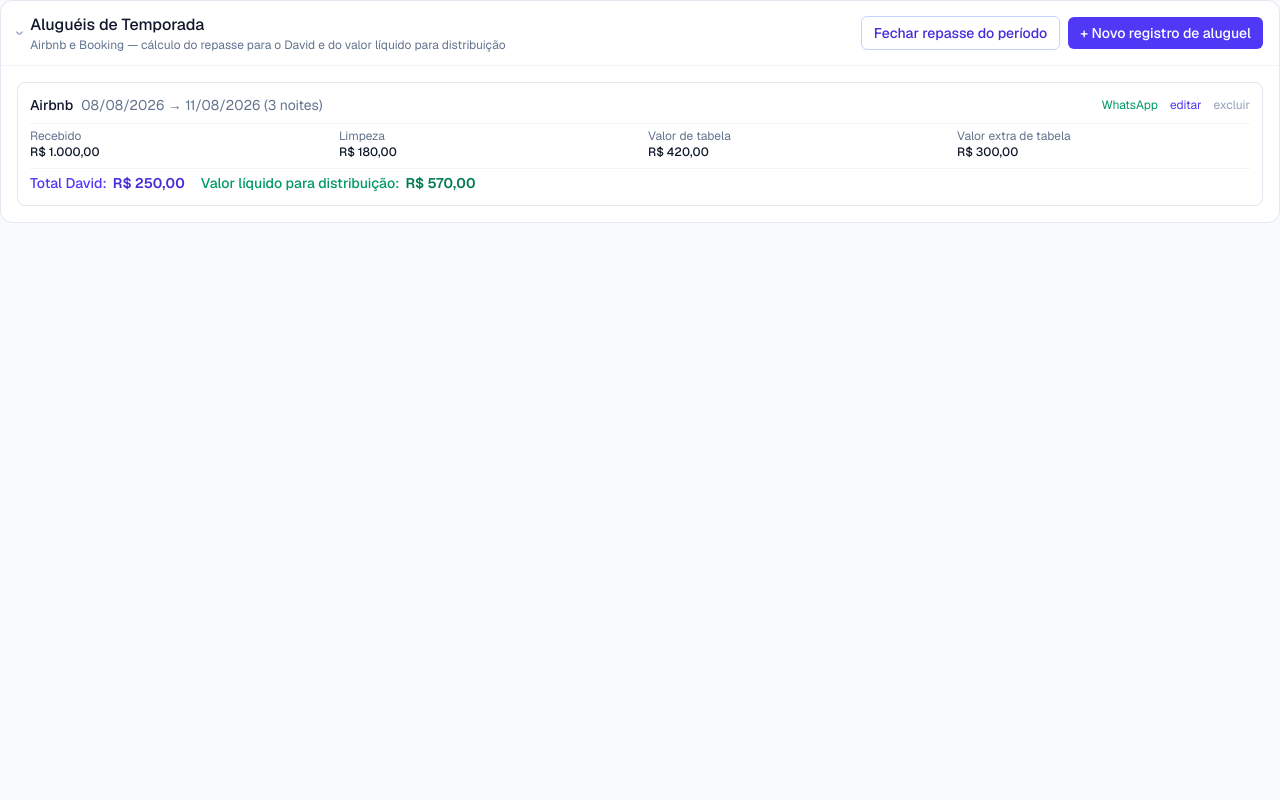
Scenario: SeasonalRentalsSection — exclusão › cancelar não exclui nada
This screenshot has width=1280, height=800.
Expected: the text "Airbnb" is shown, [30,96,73,114]
Click the button "excluir": [1232, 105] box [1214,97,1250,113]
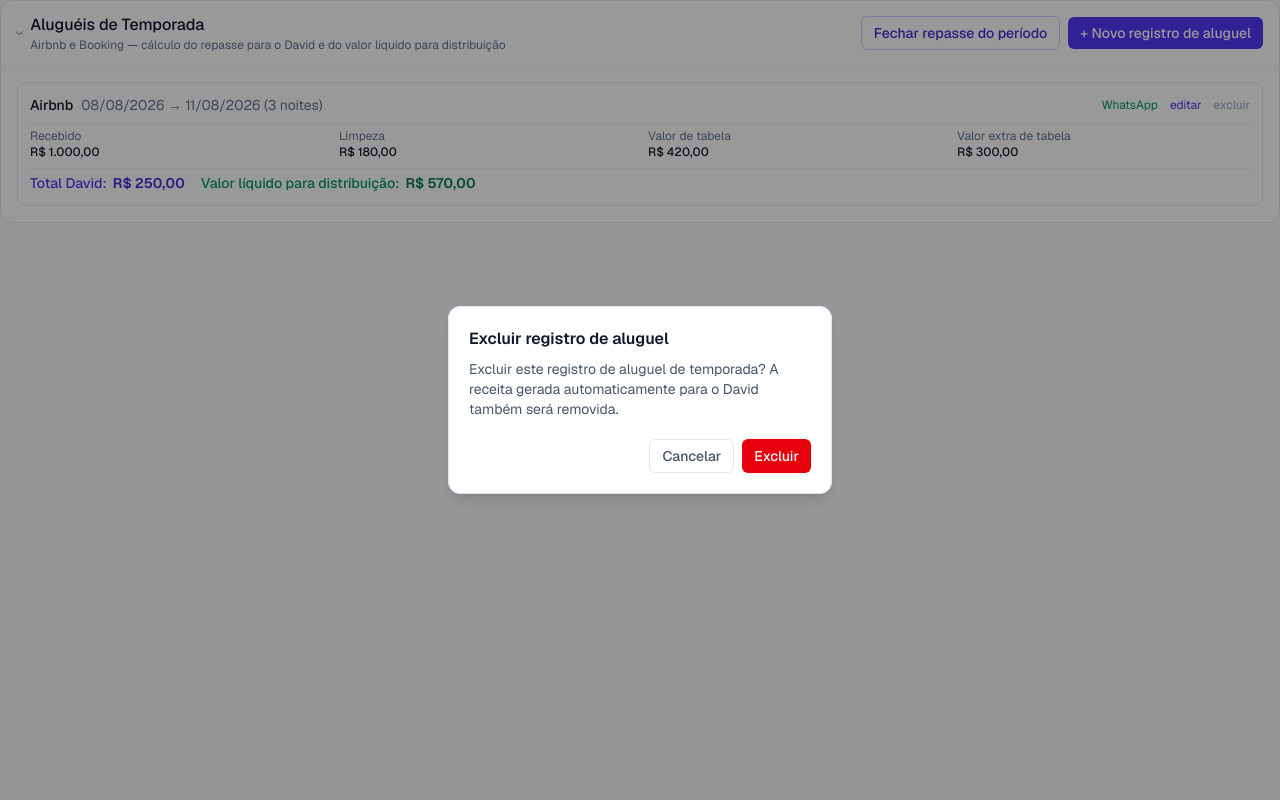
Click the button "Cancelar": [692, 456] box [649,439,734,473]
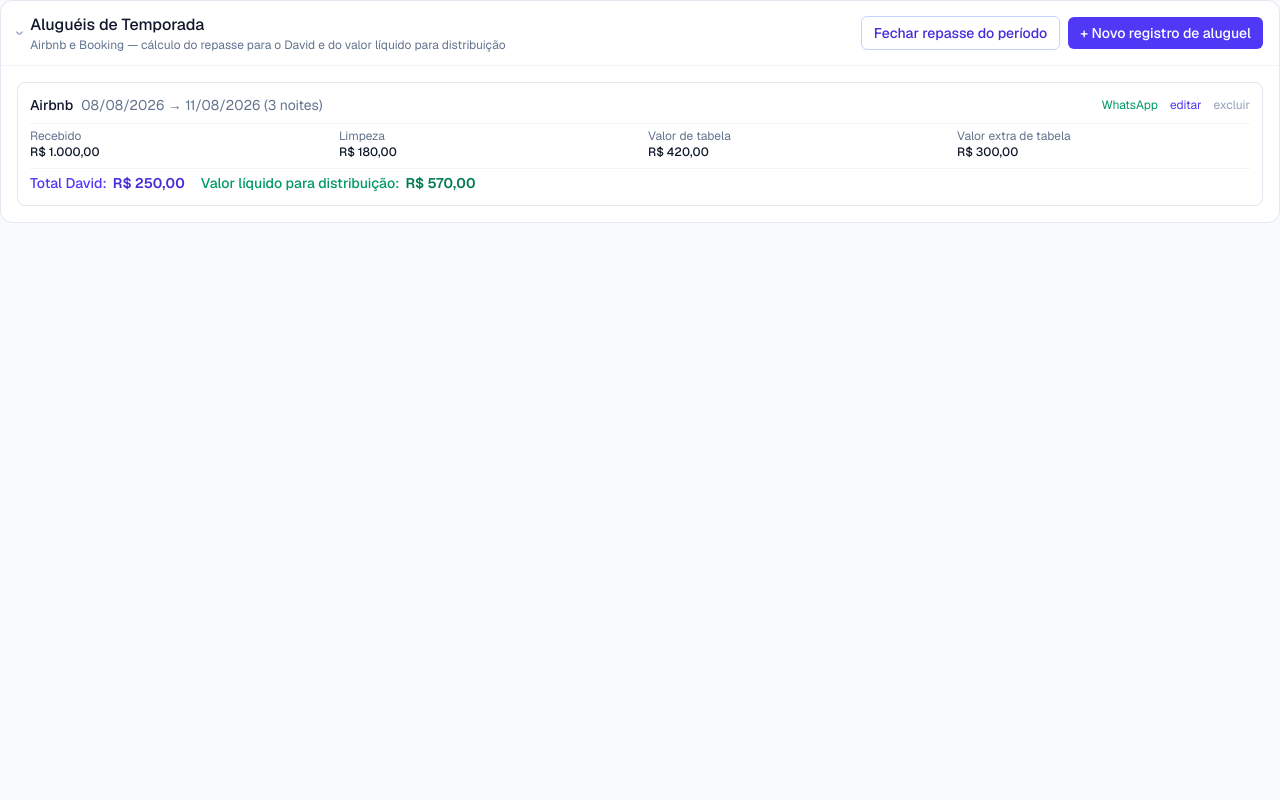
Expected: the heading "Excluir registro de aluguel" is gone
